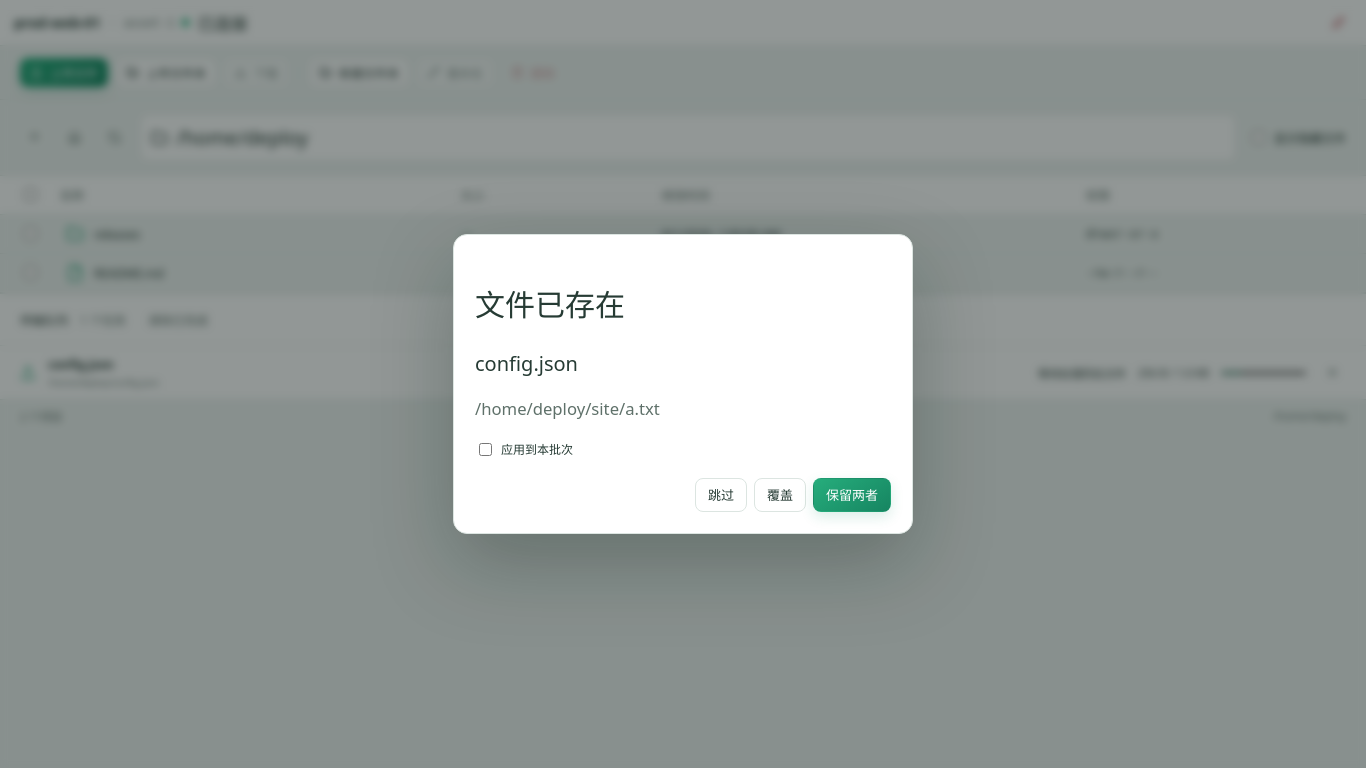
Test: 同一个目录任务遇到后续文件及重试相同文件冲突时继续询问
expect the dialog "文件已存在" is shown: met, box [453,234,913,534]
Click the button "覆盖".
click(780, 495)  # box [754,478,806,512]
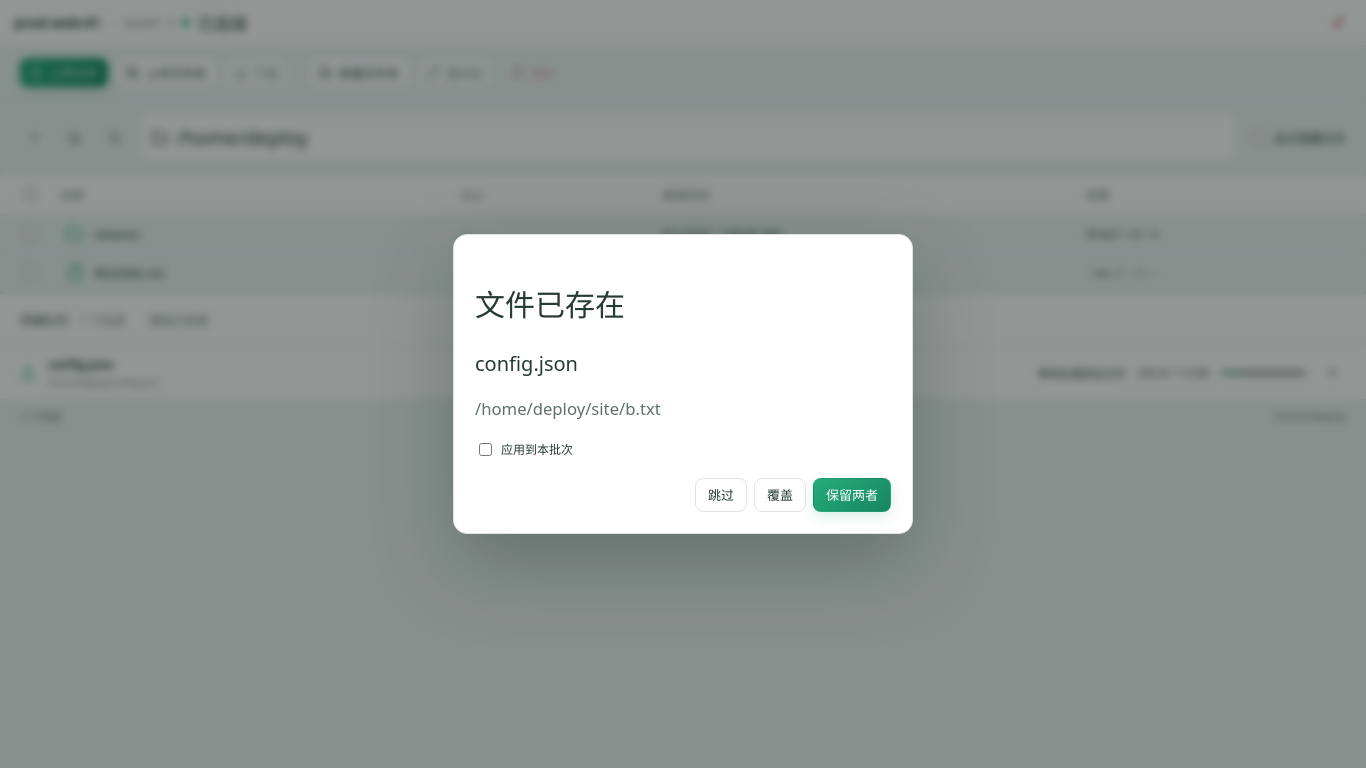
expect the dialog "文件已存在" shows "/home/deploy/site/b.txt": met, box [475,397,661,420]
Click the button "跳过".
click(721, 495)  # box [695,478,747,512]
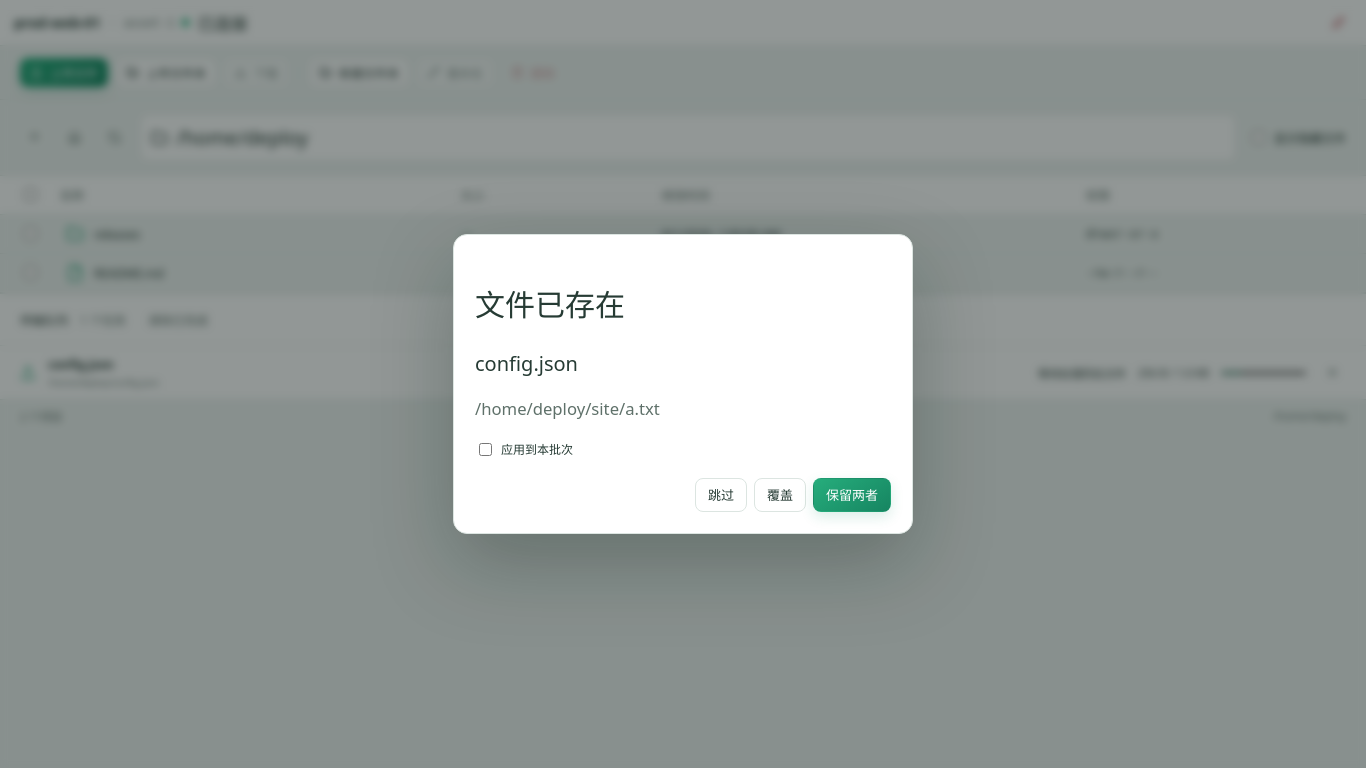
expect the dialog "文件已存在" shows "/home/deploy/site/a.txt": met, box [475,397,660,420]
